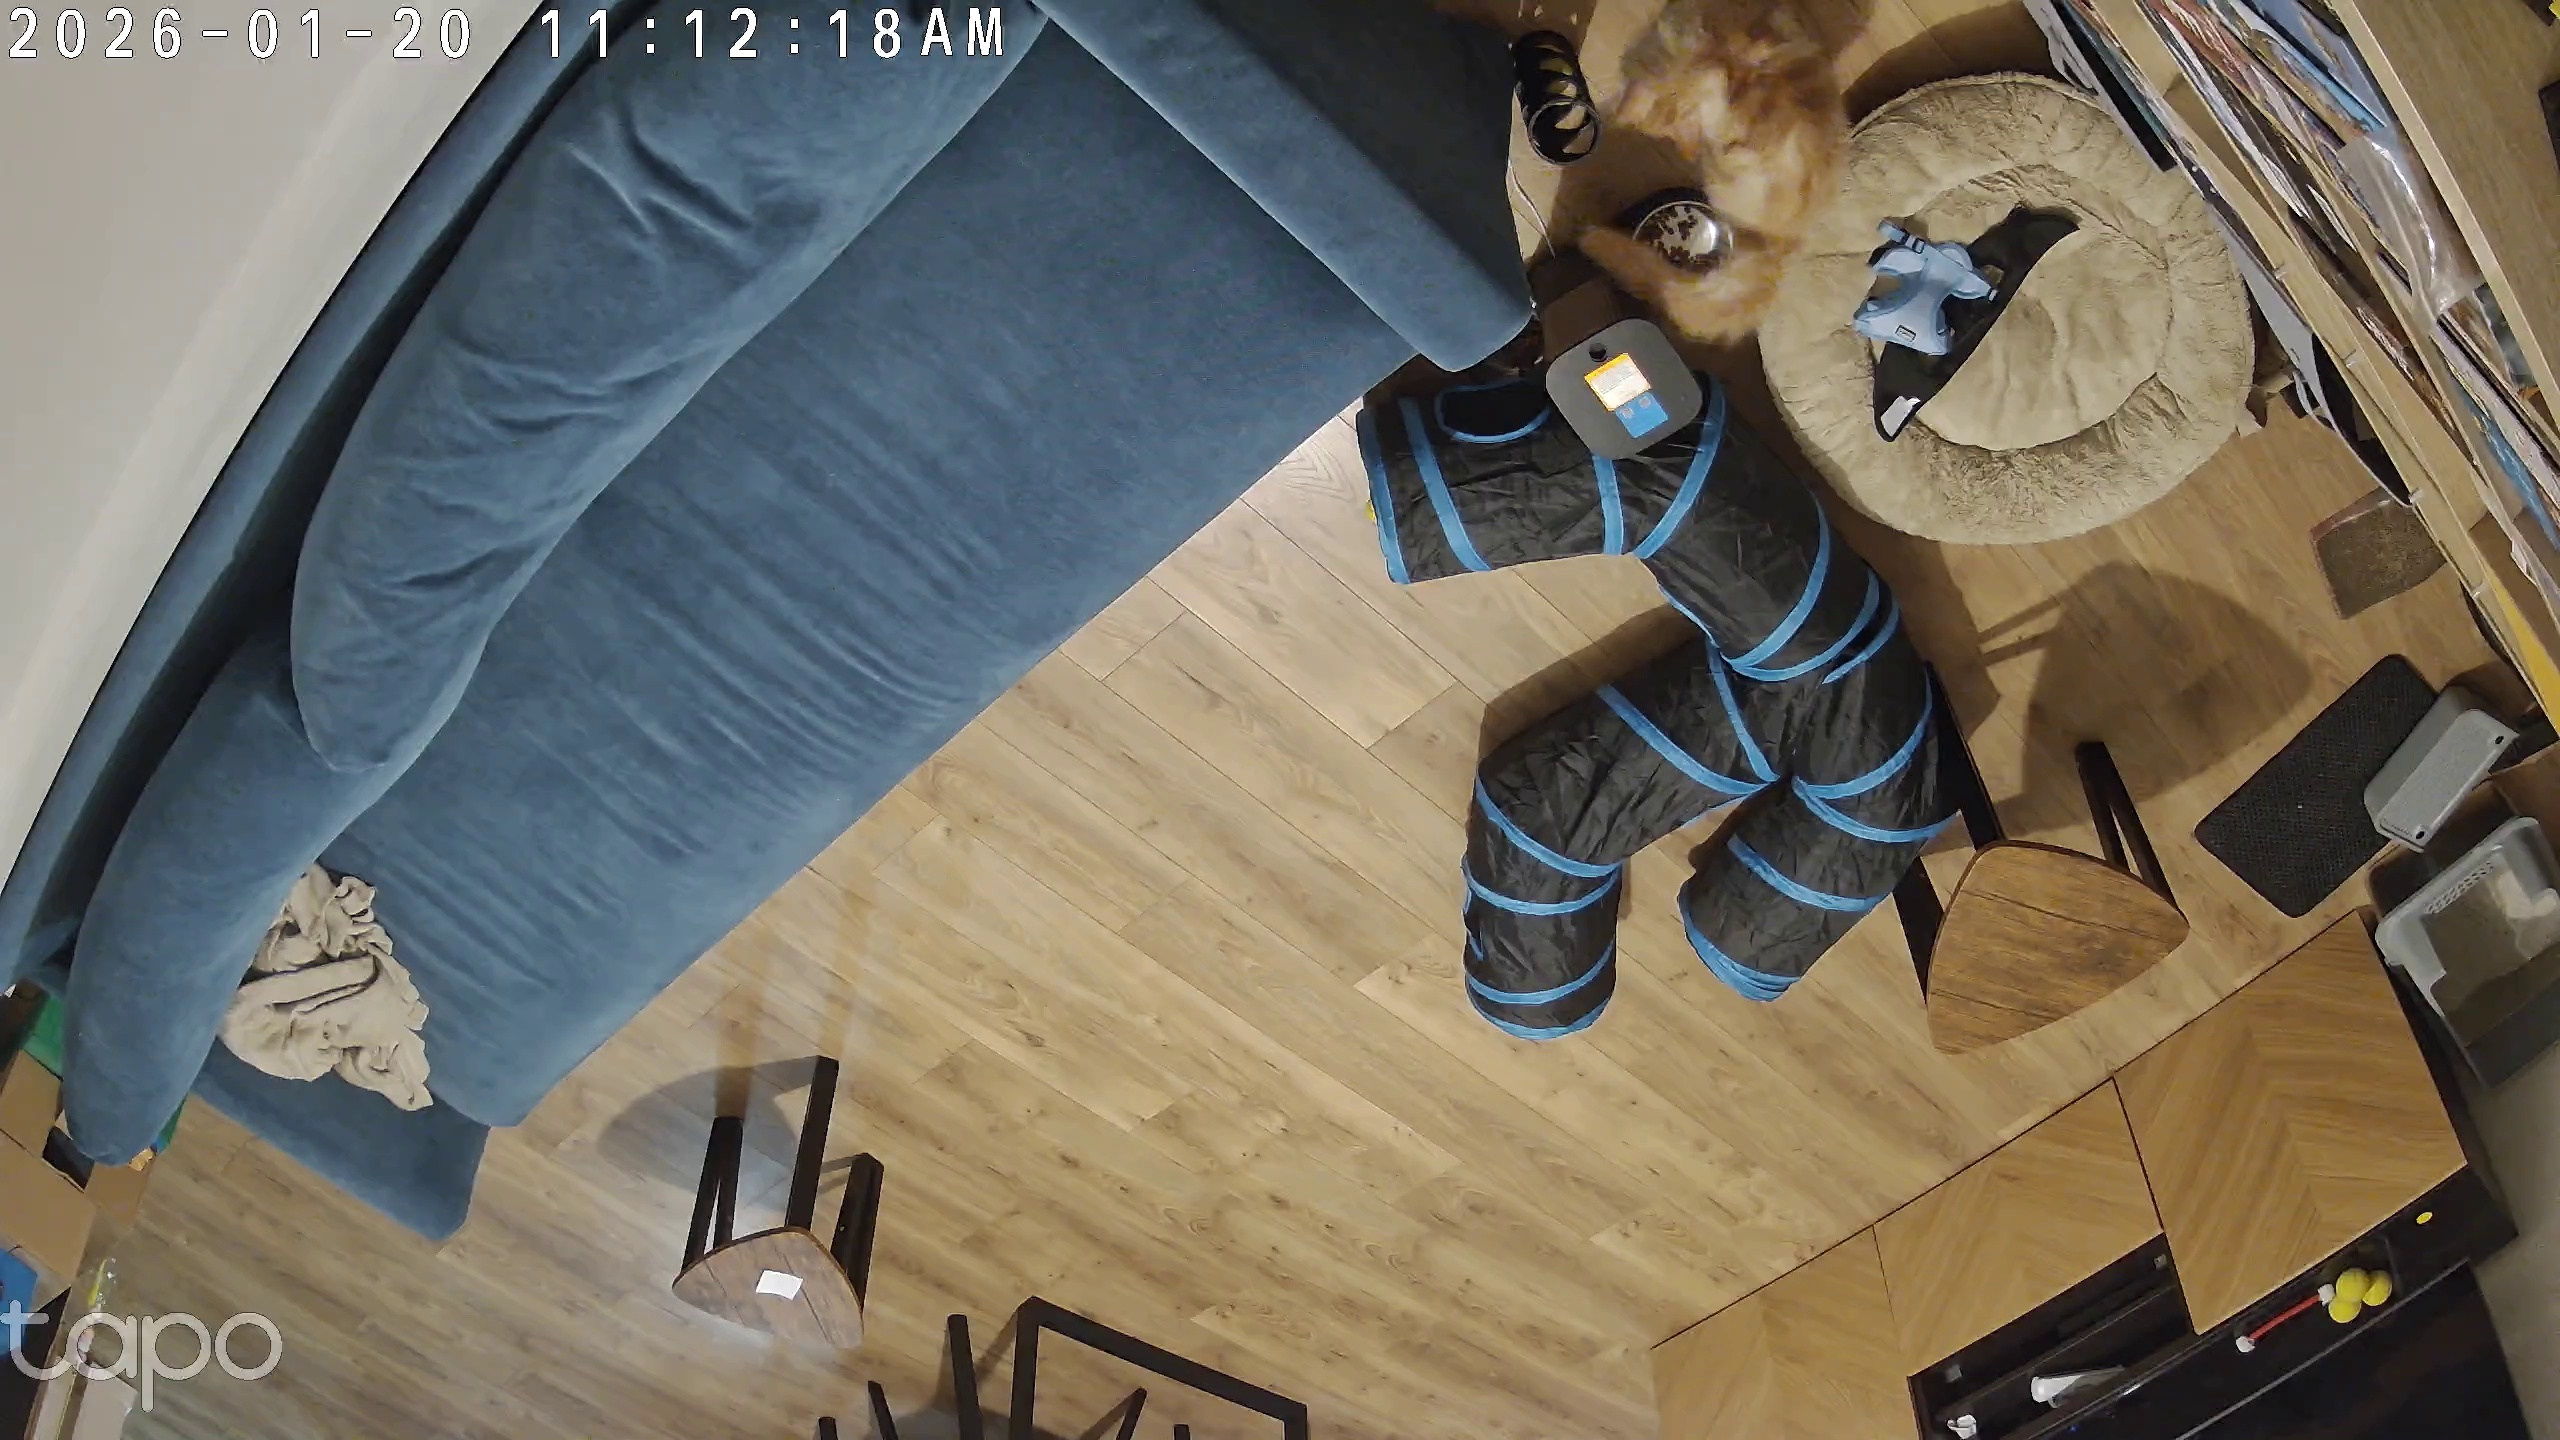Simba: (1570, 2, 1873, 350)
